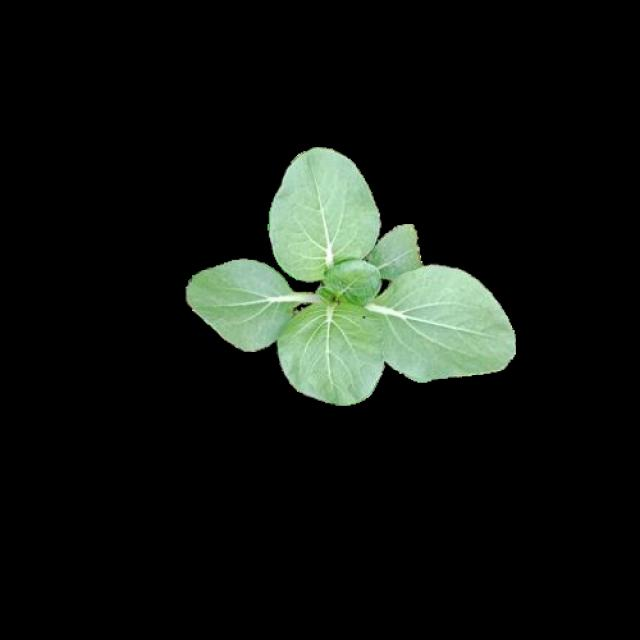healthy: (182, 147, 512, 402)
not-mature: (185, 150, 514, 404)
